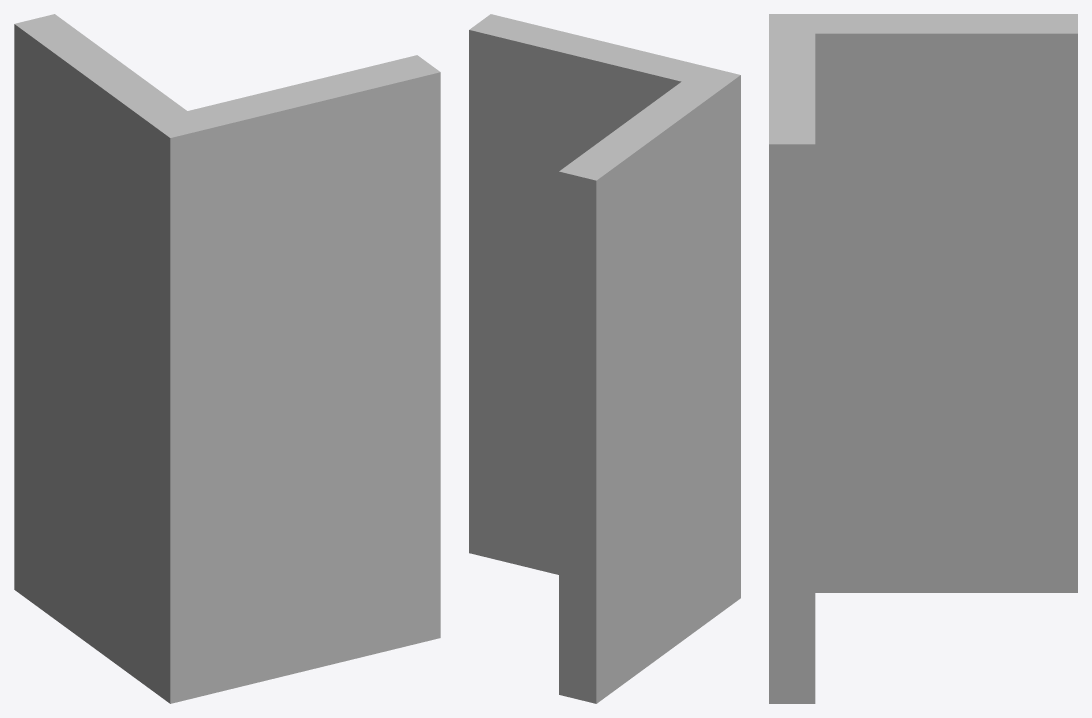
The model's file is MetalCorner.glb.
3 renders of one model, left to right at view 1: azimuth 30°, elevation 25°; view 2: azimuth 150°, elevation 25°; view 3: azimuth 270°, elevation 25°, orthographic. The views are drawn at different scales.
Visible parts, largest first — view 1: wall_plain_metal_corner; view 2: wall_plain_metal_corner; view 3: wall_plain_metal_corner.
Part boxes in pixels (x1,y1,x2,y2): wall_plain_metal_corner: (14, 14, 440, 703); wall_plain_metal_corner: (469, 14, 740, 703); wall_plain_metal_corner: (769, 14, 1077, 703).
Size of what is drawn, in the model's own units: 2 by 4 by 2.
1 material, 1 textured.
